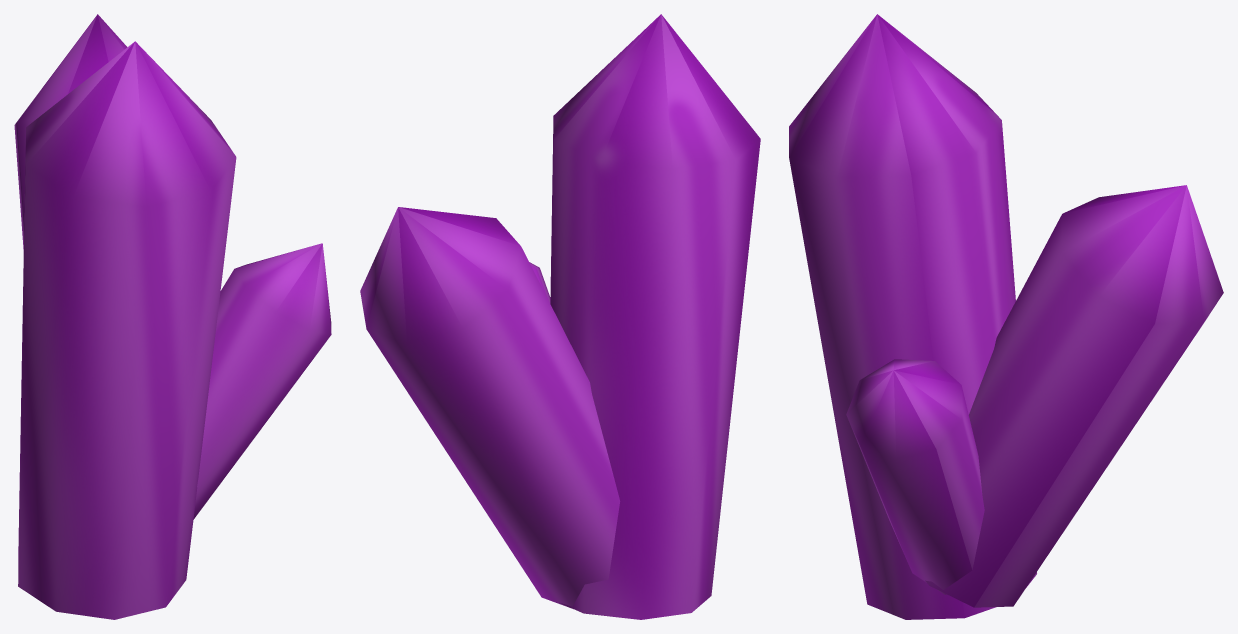
File: Model_Crystal_1.fbx
3 views of the same model, side by side, from view 1: azimuth 30°, elevation 25°; view 2: azimuth 150°, elevation 25°; view 3: azimuth 270°, elevation 25° (orthographic). The views are drawn at different scales.
Parts seen in each view (by area): view 1: Circle_002; view 2: Circle_002; view 3: Circle_002.
Part boxes in pixels (bbox=[...]): Circle_002: bbox=[14, 14, 331, 619]; Circle_002: bbox=[360, 14, 760, 619]; Circle_002: bbox=[789, 14, 1223, 619].
Bounding box in the file's own units: 3.17 × 5.77 × 3.94.
1 material, 1 textured.
